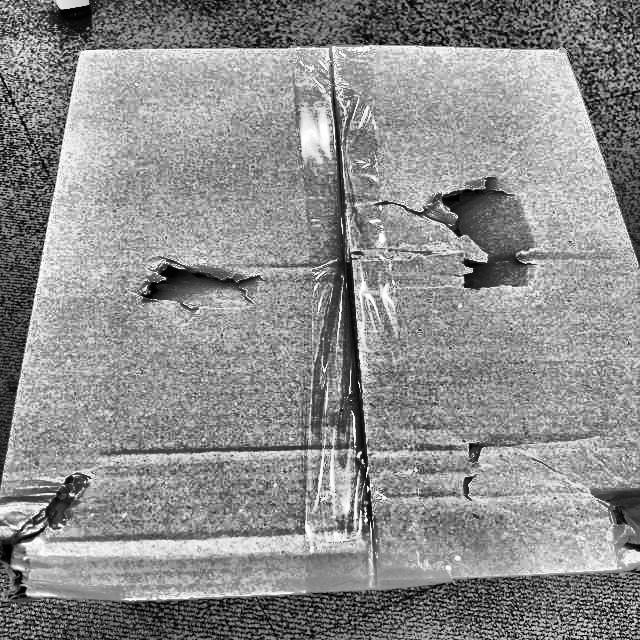box: (1, 44, 639, 610)
hole: (432, 180, 542, 300), (1, 470, 93, 600), (142, 251, 270, 313)
